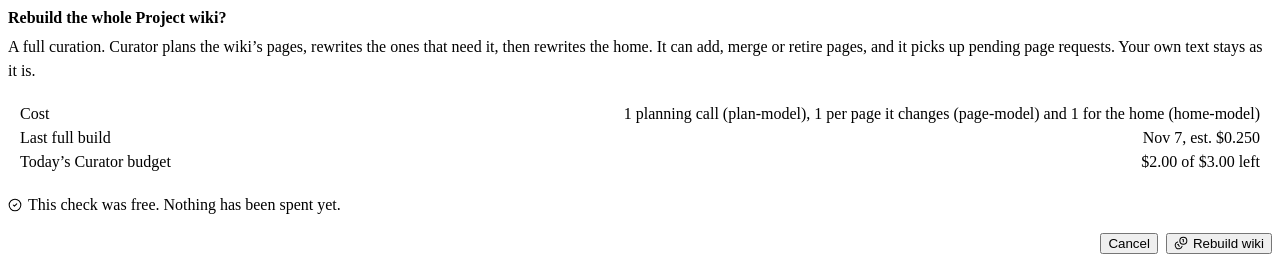
shows a refusal from the start
Click the button "Rebuild wiki" at point(1219, 243), box [1166, 233, 1272, 254]
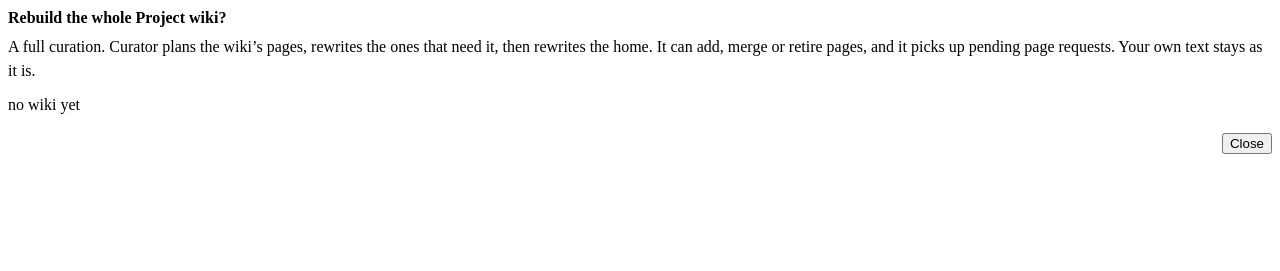
Check: the message reads "no wiki yet", box [8, 96, 80, 113]
